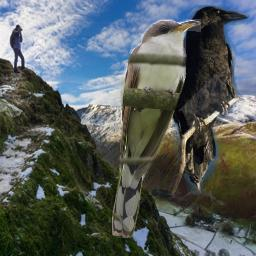Crow: (165, 5, 250, 195)
Cuckoo: (112, 19, 201, 238)
